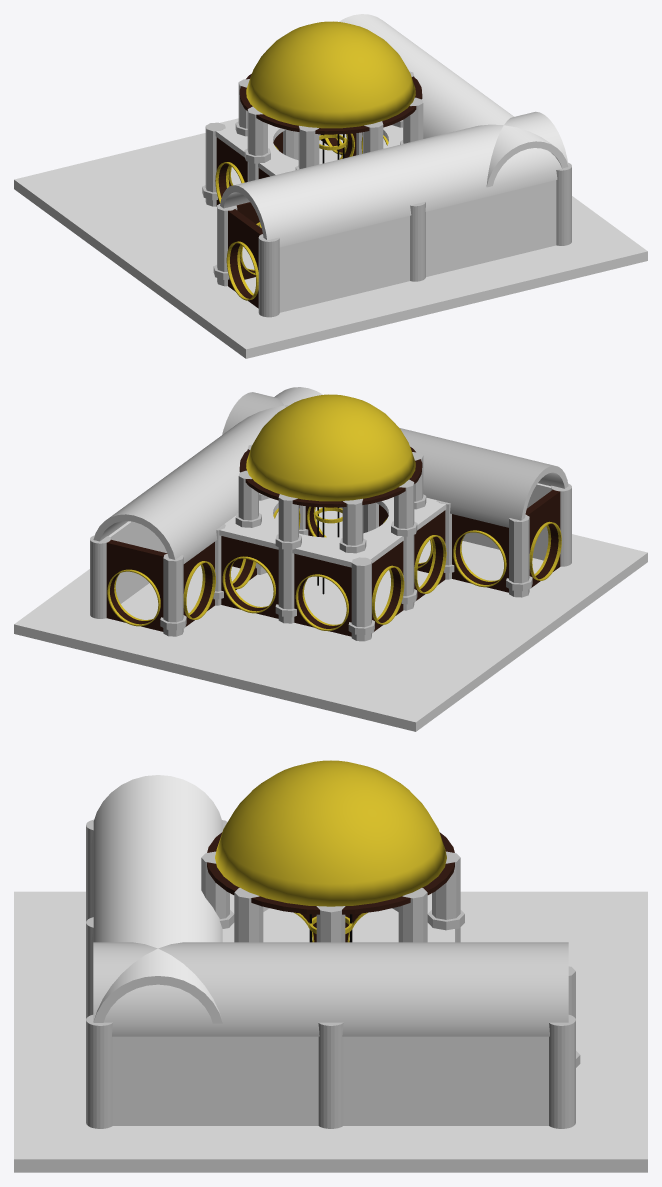
Rendered from samplebuilding.gltf.
The picture shows the model from 3 angles, top to bottom: view 1: azimuth 30°, elevation 25°; view 2: azimuth 150°, elevation 25°; view 3: azimuth 270°, elevation 25°; orthographic projection. The views are drawn at different scales.
Visible parts, largest first — view 1: Cube, Cylinder_043, Cube_006, Sphere_001, Cylinder_042, Cube_015, Sphere, Cylinder_014, Circle_001, Cylinder_012, Cylinder_013, Cube_012 (+7 smaller); view 2: Cube, Sphere_001, Cylinder_042, Cylinder_043, Sphere, Cube_016, Cube_010, Cube_009, Cube_008, Cube_015, Cube_011, Cube_012 (+15 smaller); view 3: Cube, Cylinder_042, Cube_005, Sphere_001, Cylinder_043, Cylinder_008, Cylinder_012, Cylinder_009, Circle_001, Cylinder_032, Cylinder_038, Cylinder_029 (+5 smaller).
Part boxes in pixels (x1=…): Cube: x1=14, y1=133, x2=647, y2=358; Cylinder_043: x1=220, y1=111, x2=568, y2=247; Cube_006: x1=279, y1=180, x2=556, y2=312; Sphere_001: x1=246, y1=21, x2=415, y2=128; Cylinder_042: x1=339, y1=14, x2=568, y2=187; Cube_015: x1=226, y1=209, x2=262, y2=308; Sphere: x1=215, y1=118, x2=402, y2=176; Cylinder_014: x1=258, y1=234, x2=279, y2=317; Circle_001: x1=239, y1=74, x2=422, y2=134; Cylinder_012: x1=556, y1=162, x2=571, y2=245; Cylinder_013: x1=410, y1=201, x2=425, y2=281; Cube_012: x1=215, y1=137, x2=247, y2=206; Cube: x1=14, y1=507, x2=647, y2=731; Sphere_001: x1=246, y1=394, x2=415, y2=501; Cylinder_042: x1=93, y1=387, x2=322, y2=563; Cylinder_043: x1=222, y1=392, x2=568, y2=527; Sphere: x1=219, y1=497, x2=446, y2=567; Cube_016: x1=106, y1=539, x2=167, y2=631; Cube_010: x1=221, y1=536, x2=278, y2=618; Cube_009: x1=294, y1=553, x2=351, y2=636; Cube_008: x1=452, y1=514, x2=508, y2=592; Cube_015: x1=525, y1=489, x2=561, y2=587; Cube_011: x1=414, y1=510, x2=446, y2=600; Cube_012: x1=372, y1=541, x2=404, y2=631; Cube: x1=14, y1=891, x2=647, y2=1172; Cylinder_042: x1=93, y1=942, x2=568, y2=1036; Cube_005: x1=113, y1=1036, x2=548, y2=1125; Sphere_001: x1=215, y1=760, x2=446, y2=906; Cylinder_043: x1=91, y1=775, x2=222, y2=1023; Cylinder_008: x1=549, y1=1015, x2=575, y2=1128; Cylinder_012: x1=86, y1=1015, x2=112, y2=1128; Cylinder_009: x1=318, y1=1022, x2=343, y2=1128; Circle_001: x1=207, y1=832, x2=454, y2=914; Cylinder_032: x1=398, y1=888, x2=427, y2=942; Cylinder_038: x1=234, y1=888, x2=263, y2=942; Cylinder_029: x1=432, y1=851, x2=460, y2=919.
Bounding box in the file's own units: 22 × 10.23 × 22.
